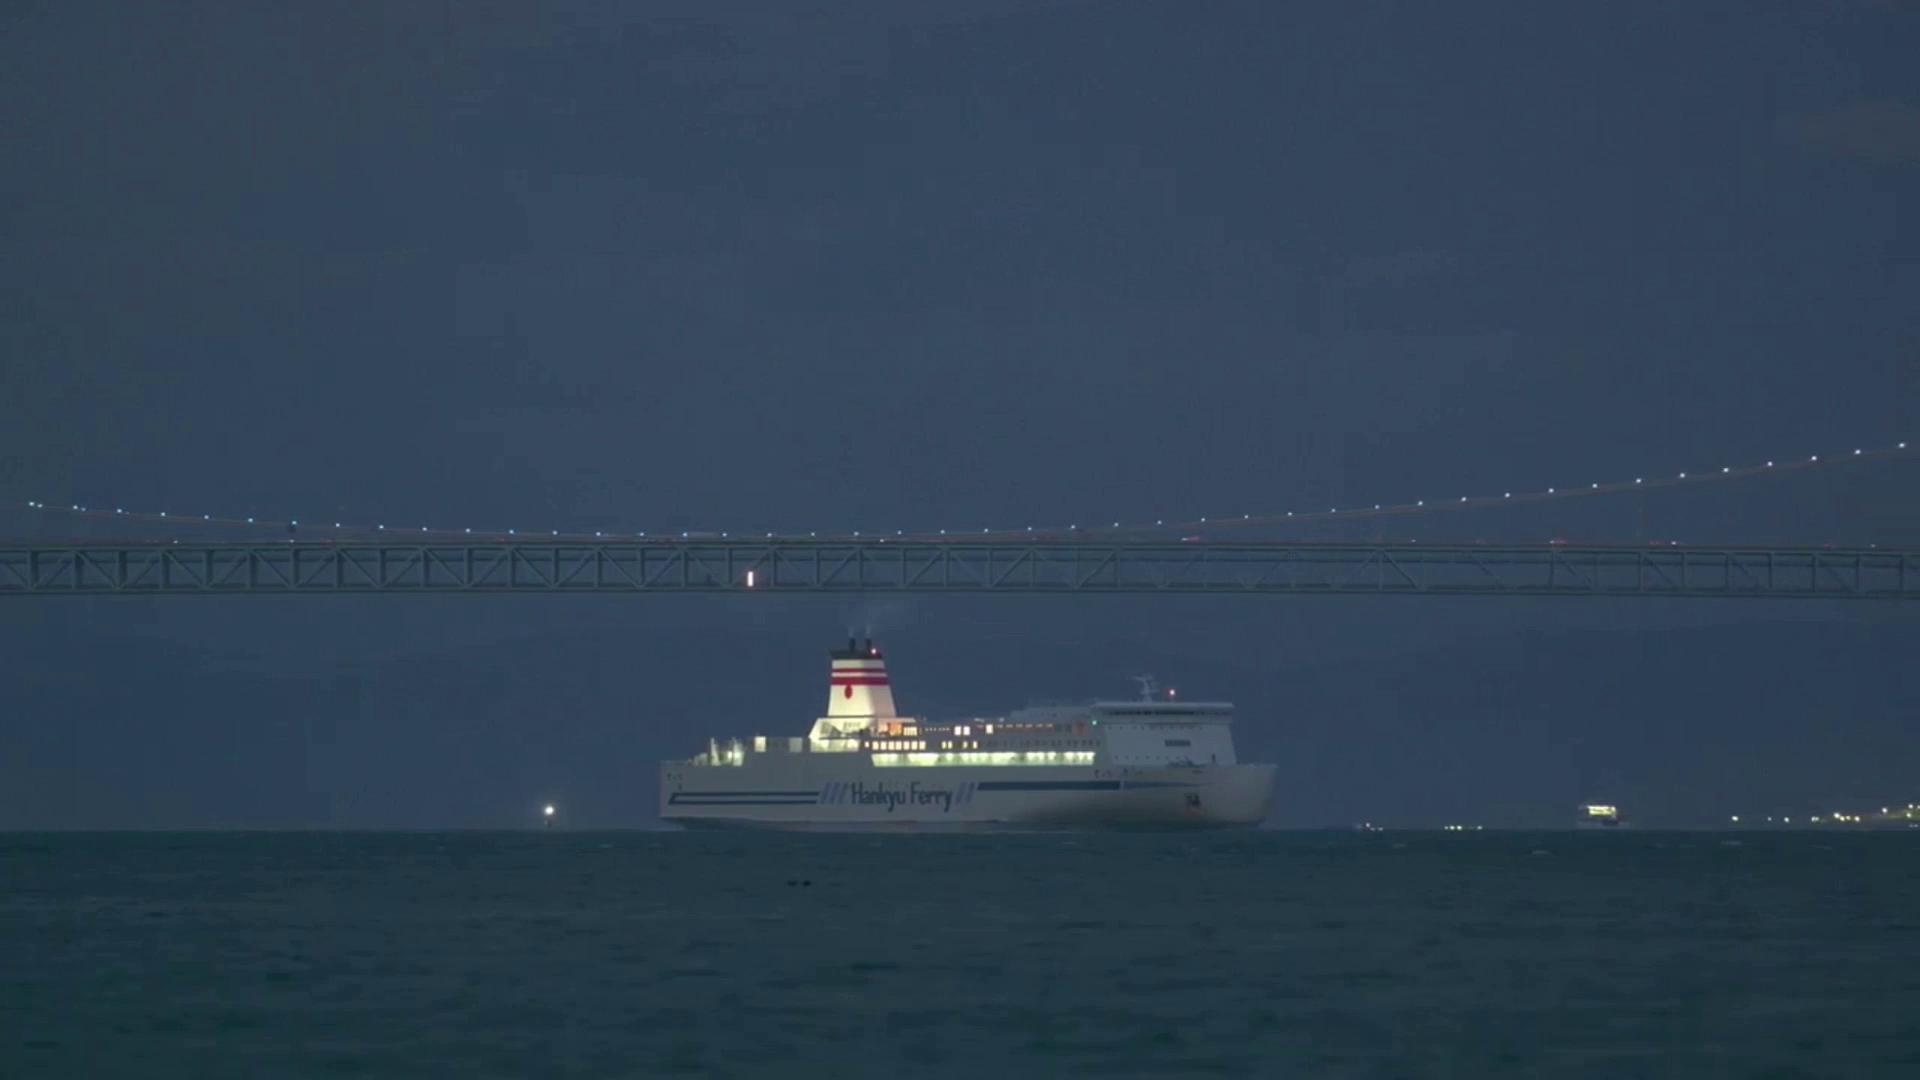OCR: (840, 771, 953, 818)
